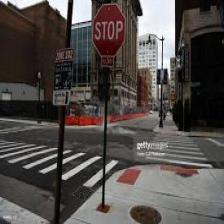Stop: (92, 3, 125, 57)
